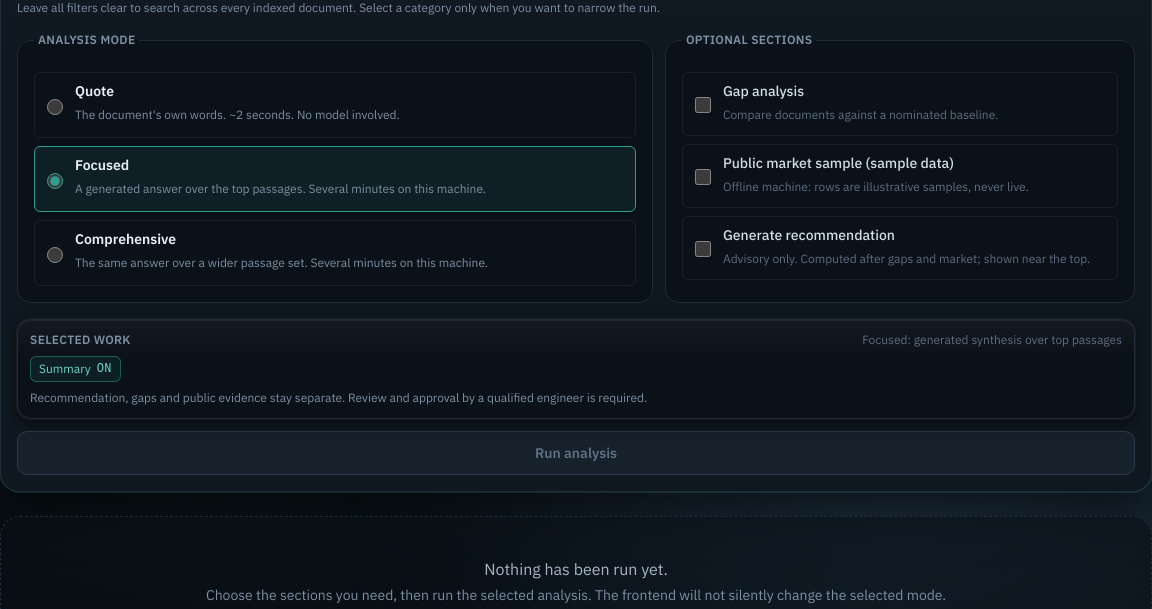
AnalysisModeScreen: rules that must hold on screen › a confidence check the backend did not run shows as not checked, never as clear
(page scrolled)
Click the checkbox labelled "Generate recommendation". click: (703, 249)
box: [695, 227, 711, 271]
(page scrolled)
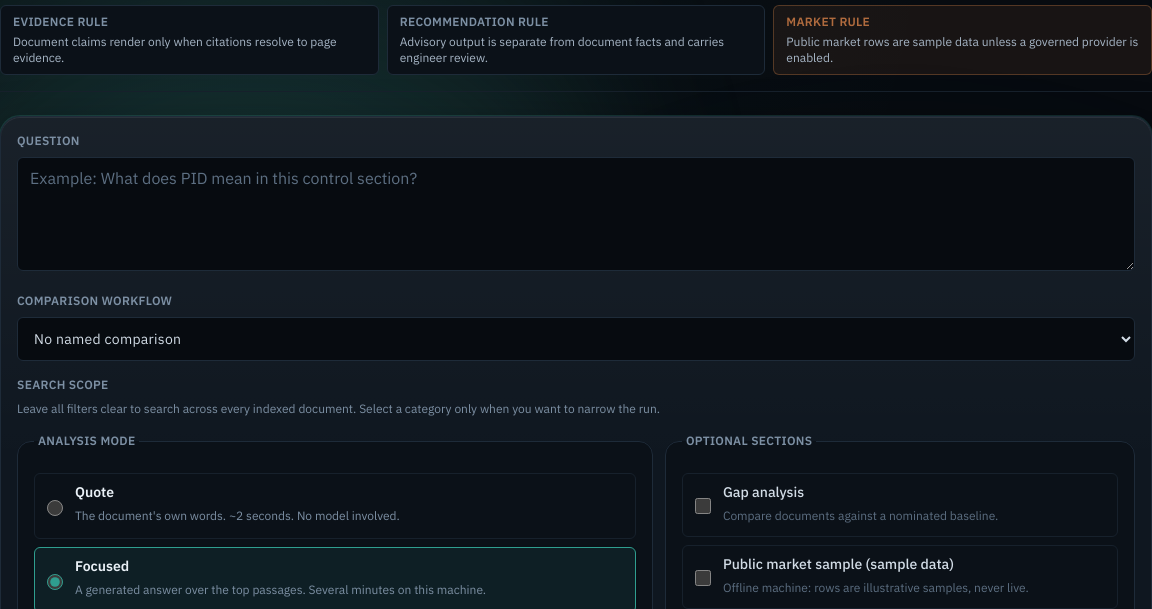
Type "what is the pressure floor" into the text box labelled "Question". click: (576, 214)
box: [17, 157, 1135, 271]
(page scrolled)
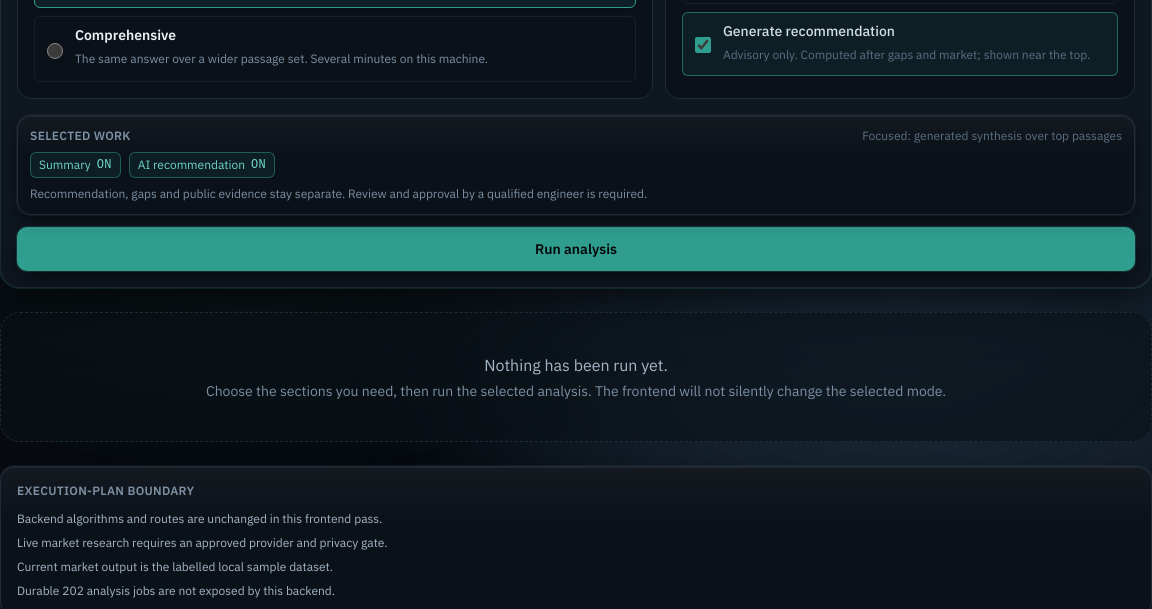
Click the button "Run analysis". click: (576, 249)
box: [17, 227, 1135, 271]
(page scrolled)
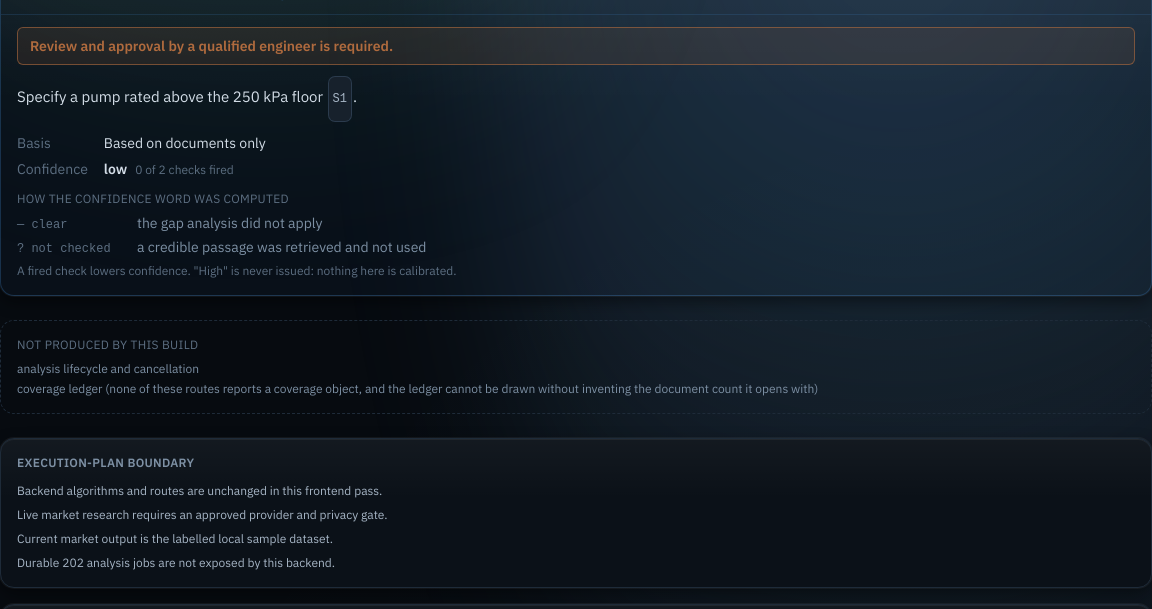
Check: the text "? not checked" is shown, box [17, 242, 111, 256]
Check: the text "— clear" is shown once, box [17, 218, 67, 232]
